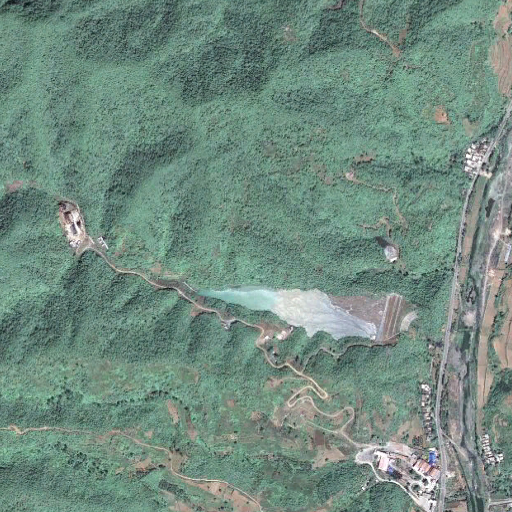tp: (201, 287, 418, 343)
